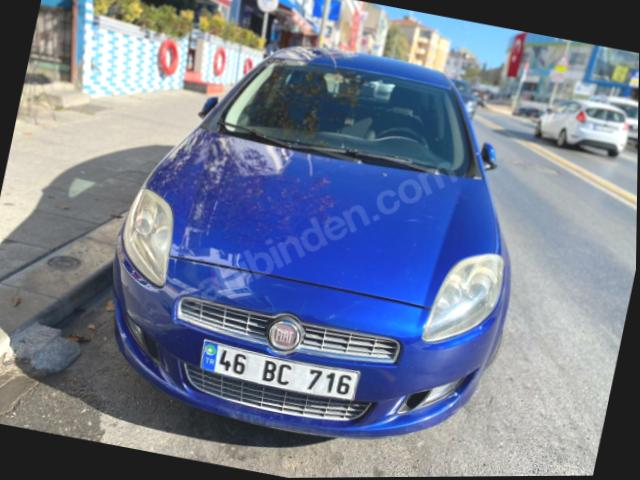plaka: (200, 340, 358, 400)
